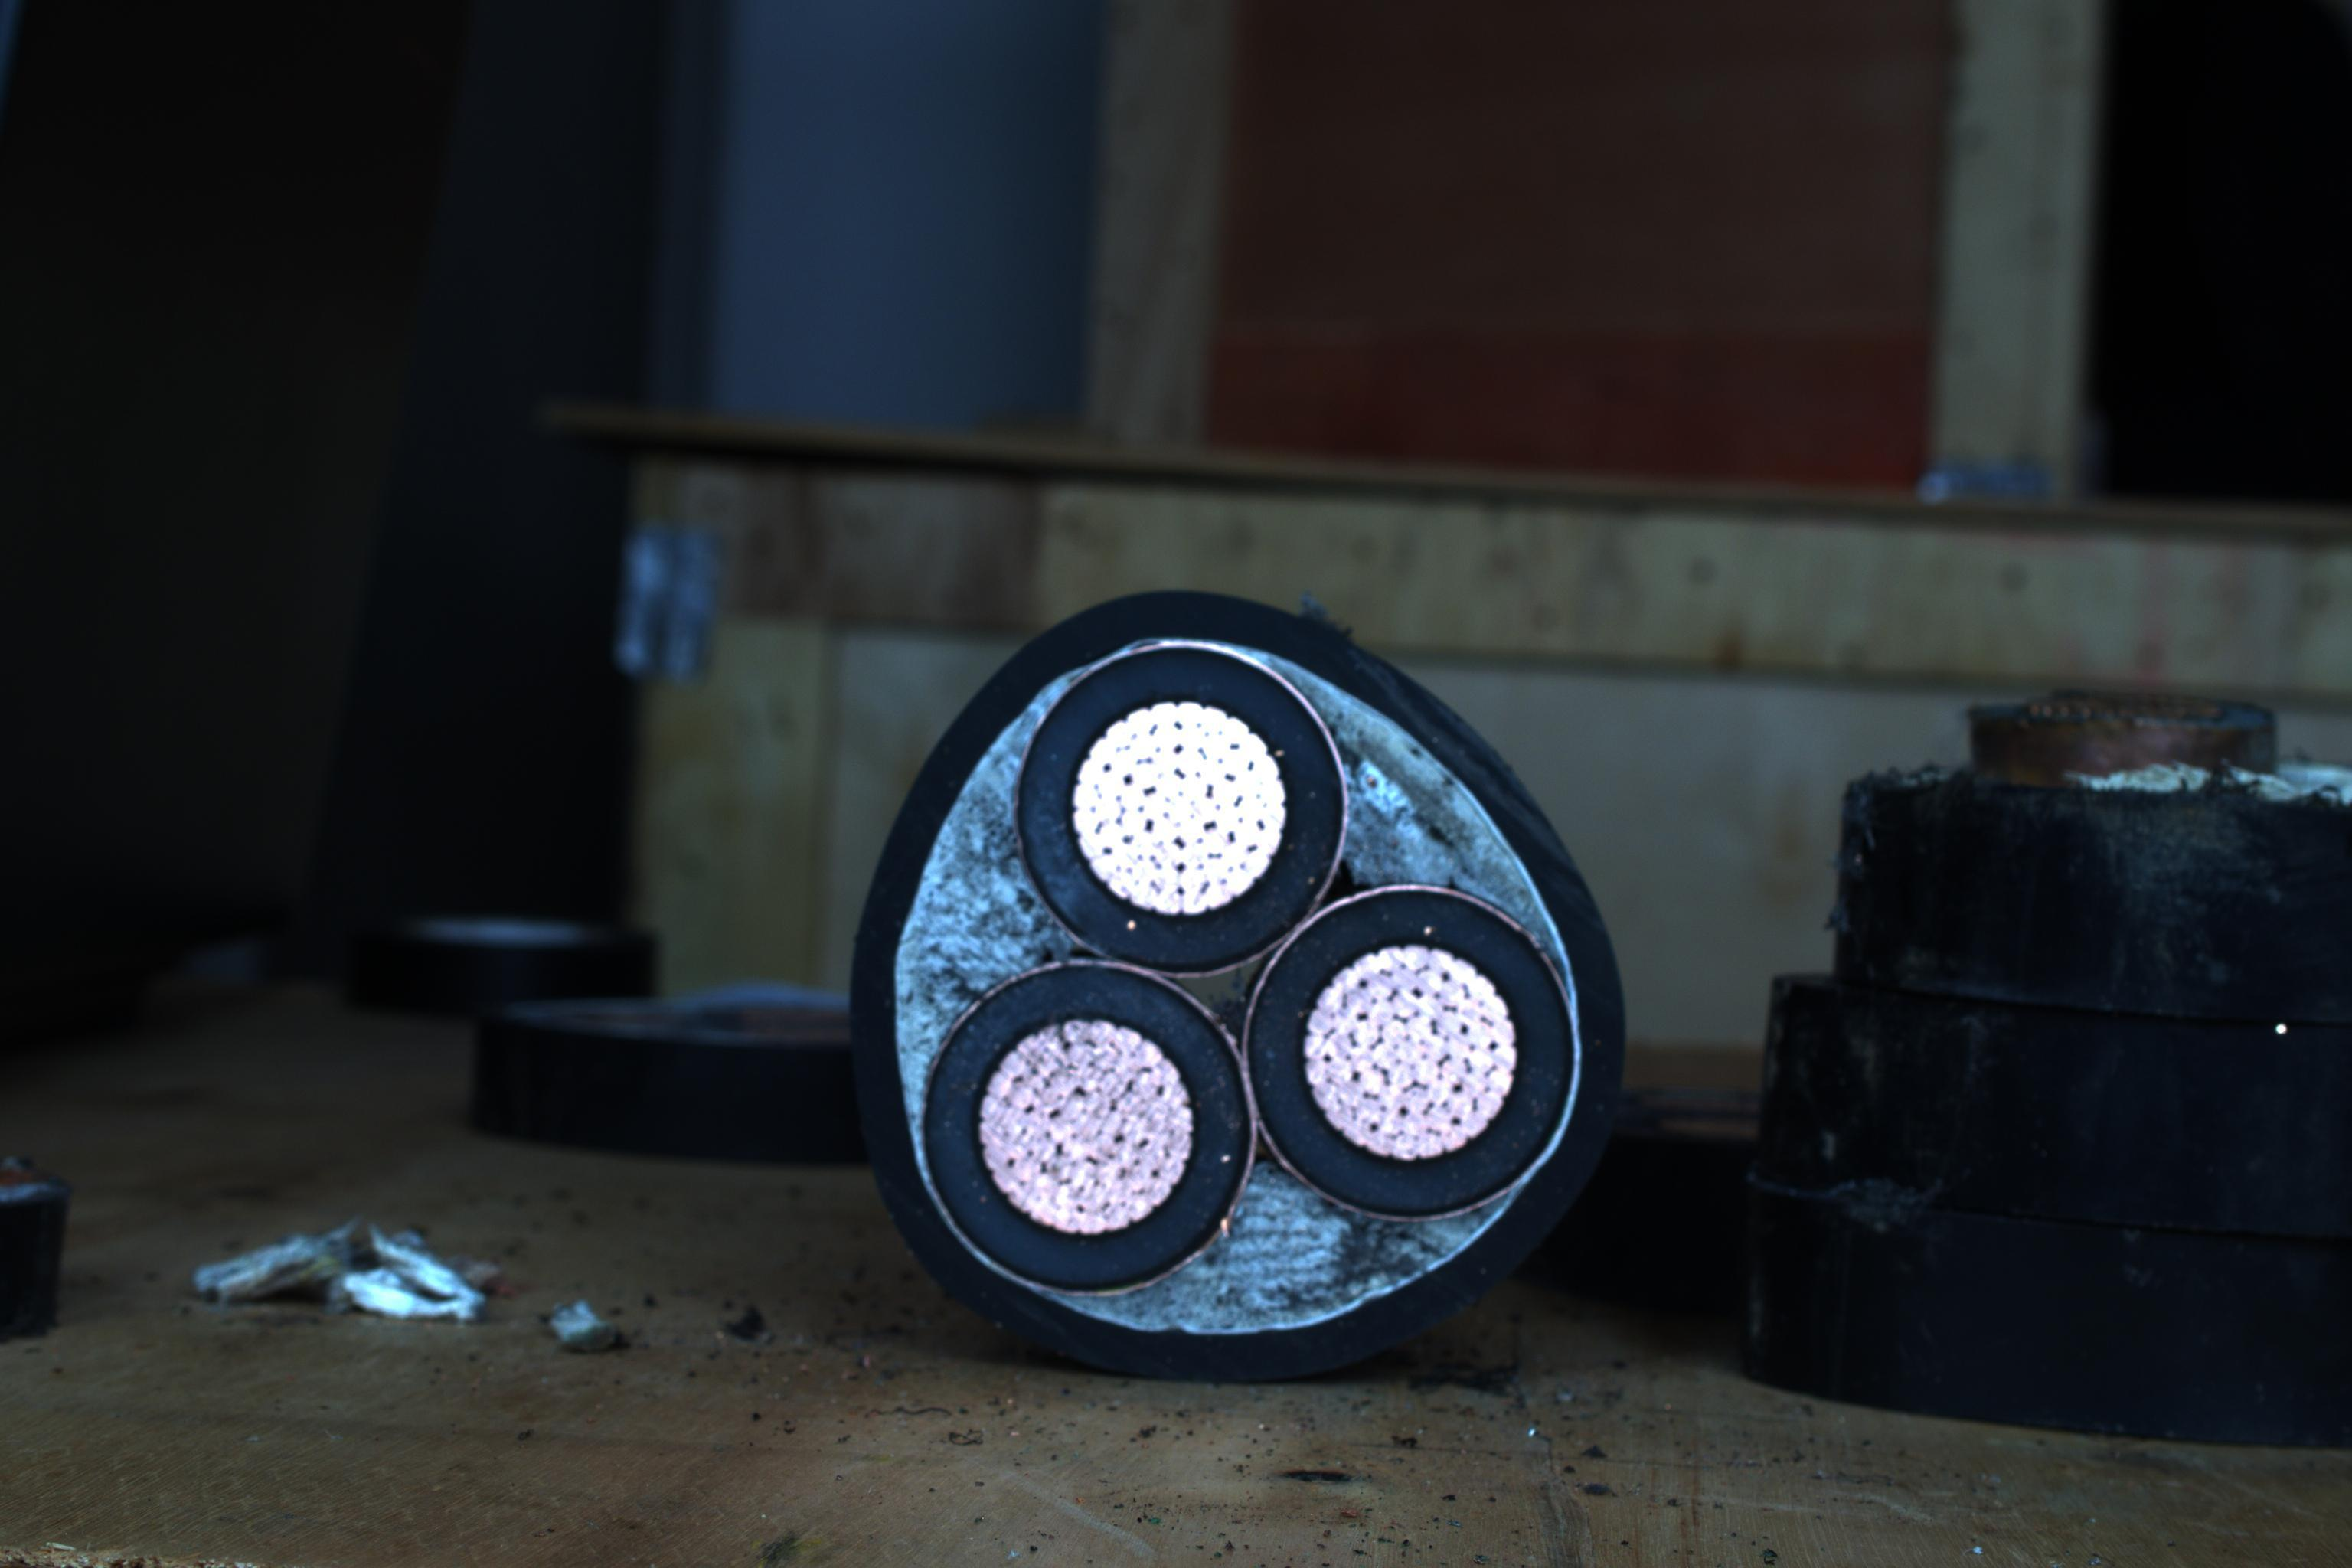ZA_YJV_8.7_10kV_3x400: (887, 588, 1617, 1325)
